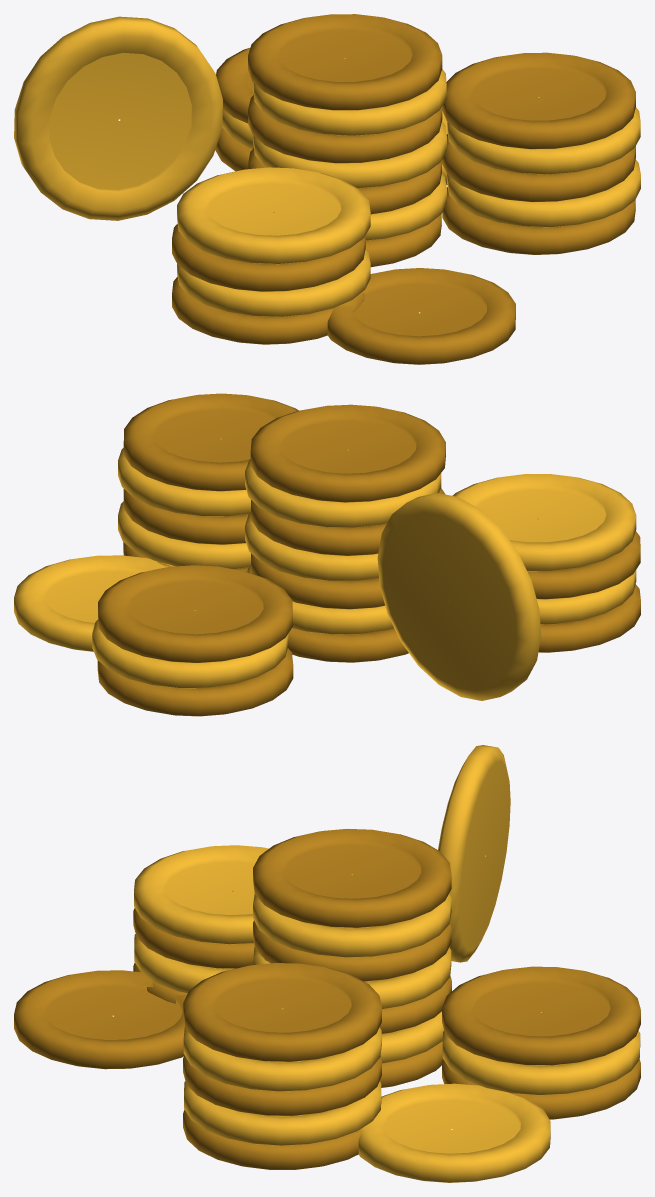
Rendered from loot_gold.glb.
3 renders of one model, top to bottom at view 1: azimuth 30°, elevation 25°; view 2: azimuth 150°, elevation 25°; view 3: azimuth 270°, elevation 25°, orthographic. The views are drawn at different scales.
Parts seen in each view (by area): view 1: CoinStanding, Coin0_6, Coin2_3, Coin1_4, CoinLying2, Coin0_4, Coin2_2, Coin1_0, Coin1_2, Coin2_1, Coin0_5, Coin1_1 (+9 smaller); view 2: CoinStanding, Coin0_6, Coin3_2, Coin2_3, Coin1_4, CoinLying, Coin3_0, Coin3_1, Coin0_5, Coin0_3, Coin1_3, Coin0_4 (+8 smaller); view 3: Coin3_2, Coin1_4, Coin0_6, CoinLying, CoinLying2, CoinStanding, Coin2_3, Coin0_5, Coin1_3, Coin3_1, Coin1_1, Coin1_2 (+9 smaller).
Boxes of the visible parts, x1,y1,x2,y2 form: CoinStanding: [14, 16, 222, 220]; Coin0_6: [248, 14, 442, 110]; Coin2_3: [177, 167, 370, 264]; Coin1_4: [442, 52, 635, 149]; CoinLying2: [327, 268, 515, 364]; Coin0_4: [248, 95, 442, 163]; Coin2_2: [172, 212, 365, 291]; Coin1_0: [442, 187, 635, 254]; Coin1_2: [442, 134, 635, 202]; Coin2_1: [177, 249, 370, 316]; Coin0_5: [253, 58, 446, 135]; Coin1_1: [447, 160, 640, 227]; CoinStanding: [377, 493, 541, 700]; Coin0_6: [250, 404, 445, 502]; Coin3_2: [98, 565, 292, 662]; Coin2_3: [452, 474, 636, 571]; Coin1_4: [123, 393, 298, 491]; CoinLying: [14, 555, 173, 651]; Coin3_0: [97, 648, 293, 716]; Coin3_1: [92, 610, 288, 688]; Coin0_5: [245, 449, 441, 527]; Coin0_3: [245, 512, 378, 580]; Coin1_3: [118, 438, 250, 516]; Coin0_4: [251, 488, 445, 555]; Coin3_2: [442, 966, 640, 1065]; Coin1_4: [183, 963, 381, 1061]; Coin0_6: [253, 828, 451, 927]; CoinLying: [358, 1083, 550, 1182]; CoinLying2: [14, 970, 186, 1069]; CoinStanding: [438, 745, 510, 962]; Coin2_3: [134, 845, 268, 944]; Coin0_5: [253, 874, 451, 957]; Coin1_3: [183, 1008, 381, 1091]; Coin3_1: [442, 1012, 640, 1095]; Coin1_1: [184, 1081, 381, 1145]; Coin1_2: [183, 1055, 381, 1115].
Size of the model in its own units: 0.6278 by 0.2382 by 0.6299.
